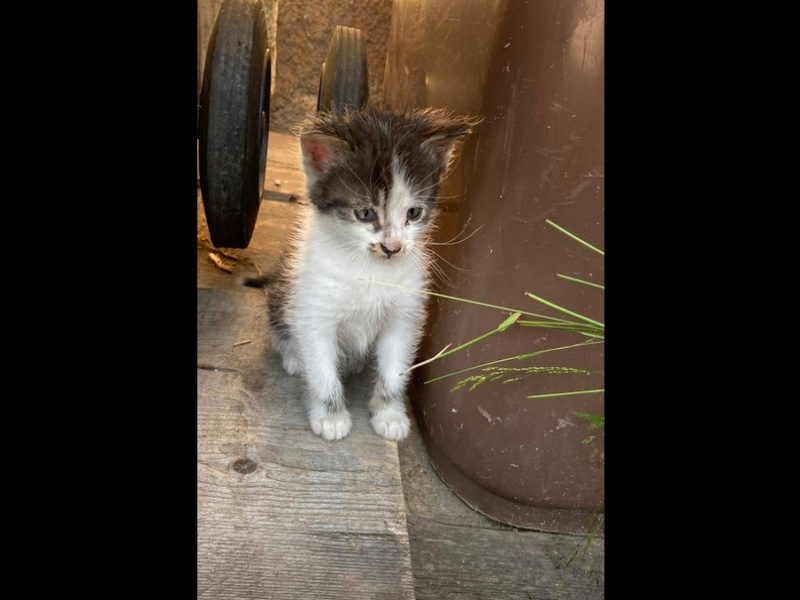cat: (269, 105, 478, 442)
